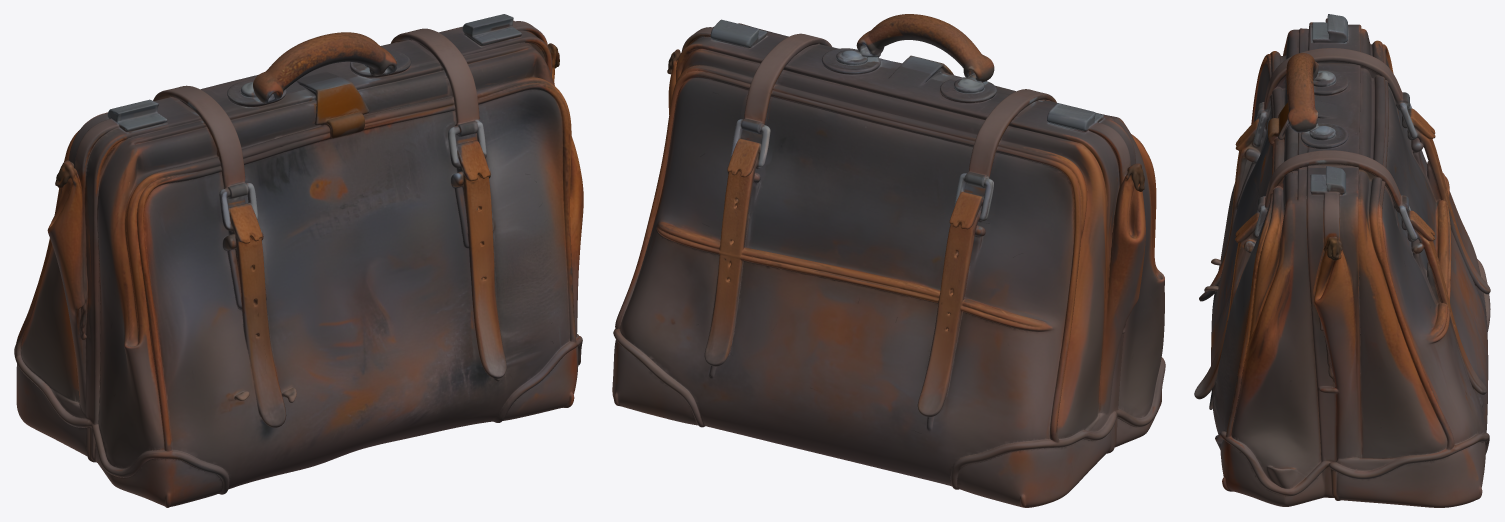
The model's file is 东北抗联第3路军总指挥李兆麟使用过的公文包.glb.
The picture shows the model from 3 angles, left to right: view 1: azimuth 30°, elevation 25°; view 2: azimuth 150°, elevation 25°; view 3: azimuth 270°, elevation 25°; orthographic projection. The views are drawn at different scales.
Visible parts, largest first — view 1: texture_pbr_v128; view 2: texture_pbr_v128; view 3: texture_pbr_v128.
Part boxes in pixels (<box>): texture_pbr_v128: <box>14,14,583,507</box>; texture_pbr_v128: <box>612,14,1165,507</box>; texture_pbr_v128: <box>1194,14,1490,507</box>.
Bounding box in the file's own units: 0.9437 × 0.7123 × 0.5449.
Materials: 1 (1 with a texture image).
